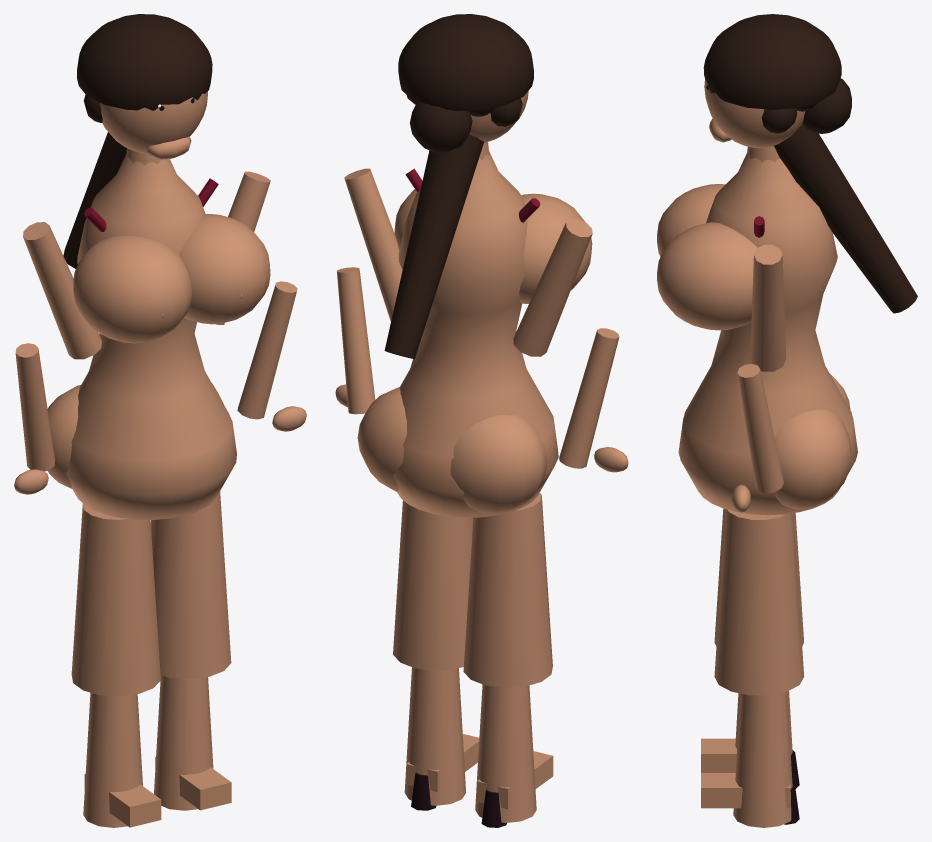
Rendered from ivy.glb.
3 renders of one model, left to right at view 1: azimuth 30°, elevation 25°; view 2: azimuth 150°, elevation 25°; view 3: azimuth 270°, elevation 25°, orthographic.
Visible parts, largest first — view 1: IVY, torso, hairCap, breastL, breastR, armL, head, hairTail, armR; view 2: IVY, torso, hairCap, hairTail, armL, armR, breastL, head; view 3: IVY, torso, hairCap, breastR, hairTail, armR, head, breastL.
Part boxes in pixels (left/top/right/bottom): IVY: left=14, top=94, right=306, bottom=827; torso: left=66, top=154, right=236, bottom=519; hairCap: left=77, top=14, right=212, bottom=110; breastL: left=73, top=235, right=192, bottom=343; breastR: left=179, top=214, right=270, bottom=324; armL: left=23, top=222, right=101, bottom=359; head: left=100, top=91, right=207, bottom=153; hairTail: left=63, top=132, right=126, bottom=268; armR: left=215, top=171, right=270, bottom=324; IVY: left=335, top=95, right=628, bottom=827; torso: left=392, top=151, right=558, bottom=517; hairCap: left=398, top=14, right=533, bottom=110; hairTail: left=384, top=134, right=483, bottom=358; armL: left=513, top=219, right=592, bottom=356; armR: left=344, top=168, right=402, bottom=321; breastL: left=519, top=193, right=592, bottom=303; head: left=469, top=91, right=528, bottom=142; IVY: left=701, top=78, right=851, bottom=827; torso: left=678, top=153, right=857, bottom=515; hairCap: left=703, top=14, right=841, bottom=109; breastR: left=657, top=222, right=757, bottom=330; hairTail: left=774, top=124, right=917, bottom=313; armR: left=750, top=244, right=786, bottom=371; head: left=704, top=79, right=805, bottom=148; breastL: left=657, top=184, right=725, bottom=256.
Size of the model in its own units: 0.748 by 1.92 by 0.5816.
